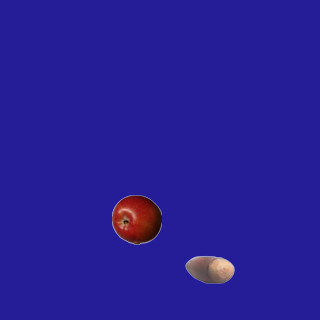Apple Braeburn: (111, 194, 161, 244)
Hazelnut: (184, 244, 234, 294)
